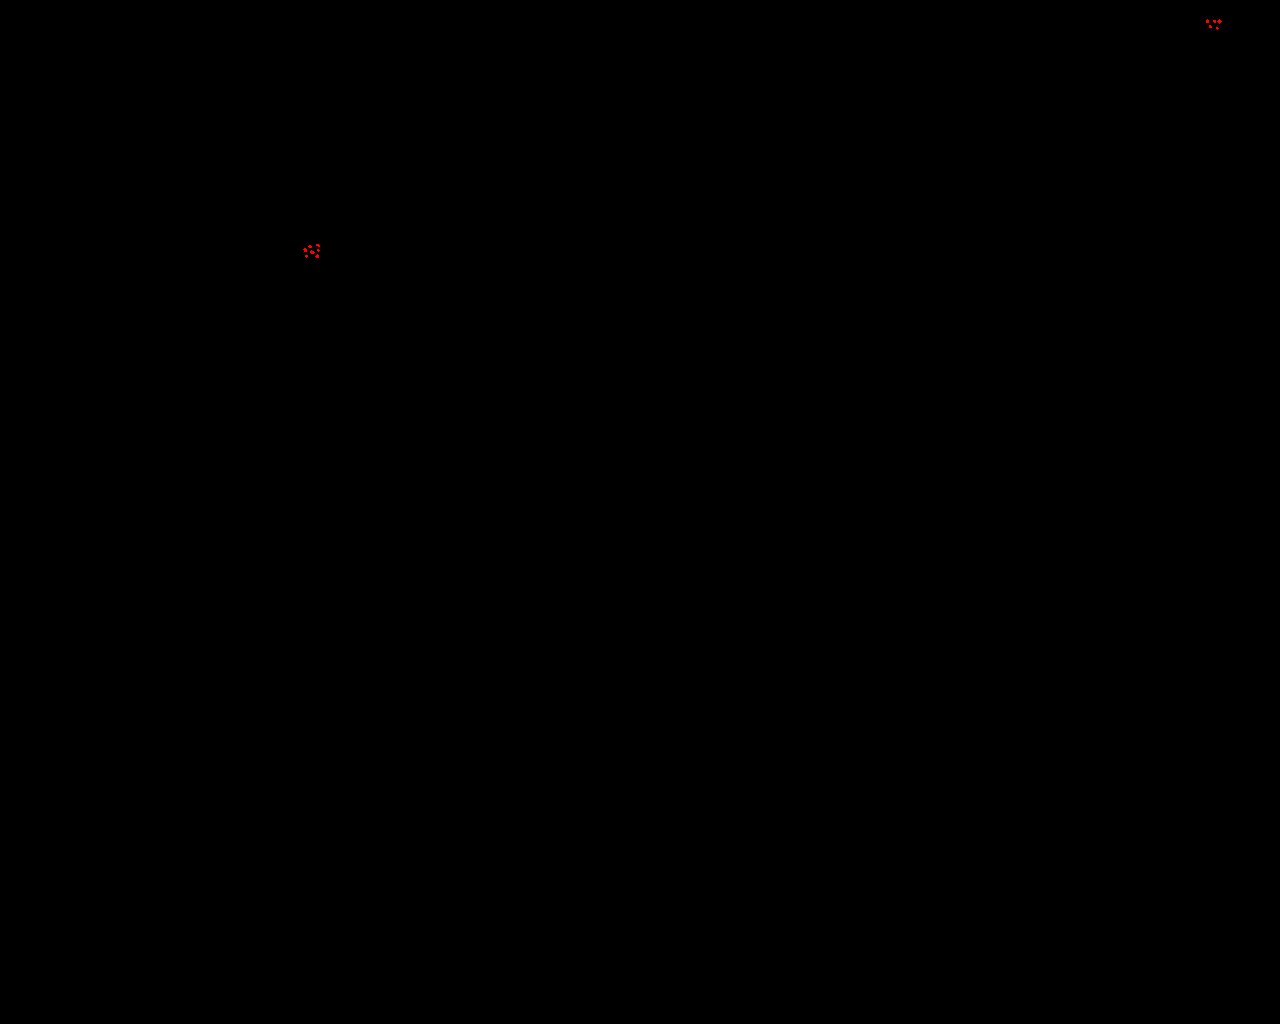Target: (1217, 19, 1221, 24), (303, 248, 307, 252), (310, 250, 315, 254), (315, 254, 319, 258), (1206, 19, 1209, 23), (308, 245, 312, 248), (1213, 20, 1216, 23), (1209, 25, 1212, 28), (1216, 27, 1219, 30), (317, 249, 320, 252), (305, 255, 308, 258), (316, 245, 320, 247)
